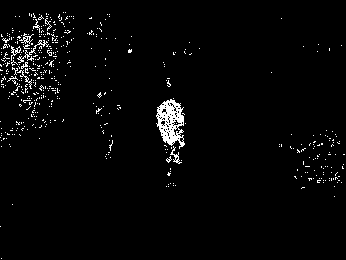person: (156, 97, 187, 180)
